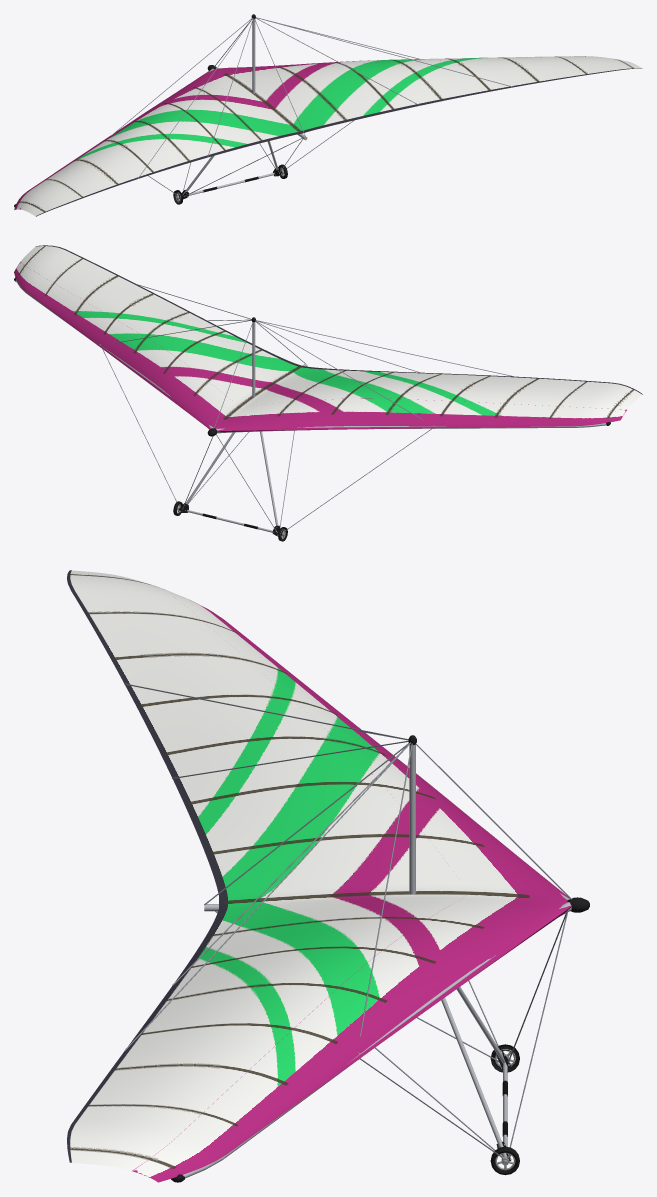
Rendered from glider_fs_funky.glb.
3 renders of one model, top to bottom at view 1: azimuth 30°, elevation 25°; view 2: azimuth 150°, elevation 25°; view 3: azimuth 270°, elevation 25°, orthographic. The views are drawn at different scales.
Parts seen in each view (by area): view 1: Sail, Frame, ControlFrame; view 2: Sail, Frame, ControlFrame; view 3: Sail, Frame, ControlFrame.
Boxes of the visible parts, bbox=[...] form: Sail: bbox=[14, 56, 642, 216]; Frame: bbox=[14, 14, 513, 207]; ControlFrame: bbox=[148, 120, 354, 204]; Sail: bbox=[14, 245, 642, 432]; Frame: bbox=[14, 277, 610, 436]; ControlFrame: bbox=[102, 349, 431, 541]; Sail: bbox=[67, 570, 571, 1182]; Frame: bbox=[124, 683, 589, 1182]; ControlFrame: bbox=[215, 911, 567, 1175].
Size of the model in its own units: 9.5 by 2.9 by 3.55.
Materials: 10 (2 with a texture image).
